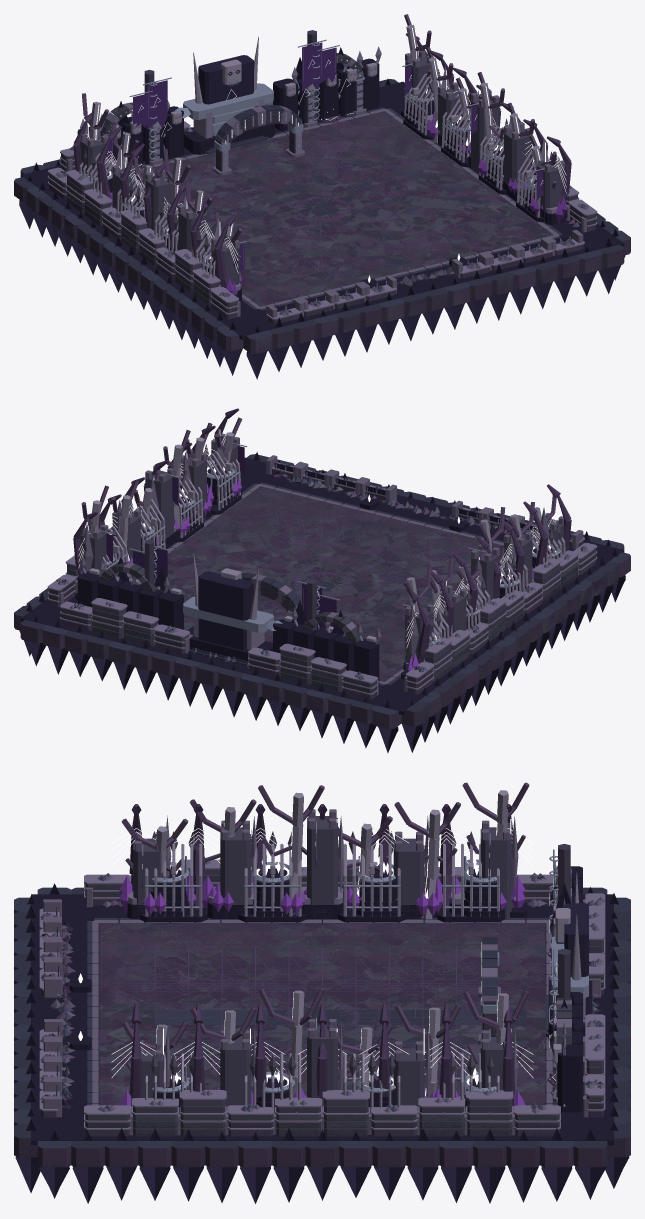
Rendered from raid-approach-rooms.glb.
3 renders of one model, top to bottom at view 1: azimuth 30°, elevation 25°; view 2: azimuth 150°, elevation 25°; view 3: azimuth 270°, elevation 25°, orthographic. The views are drawn at different scales.
Parts seen in each view (by area): view 1: raid-chamber-0-tiles, raid-chamber-1-tiles, raid-chamber-5-masonry, raid-chamber-0-facets, raid-chamber-0-masonry, raid-chamber-2-tiles, raid-chamber-3-masonry, raid-chamber-3-tiles, raid-chamber-1-facets, raid-chamber-6-masonry, raid-chamber-4-tiles, raid-chamber-1-masonry (+16 smaller); view 2: raid-chamber-0-tiles, raid-chamber-3-masonry, raid-chamber-5-masonry, raid-chamber-6-facets, raid-chamber-0-masonry, raid-chamber-1-tiles, raid-chamber-6-masonry, raid-chamber-0-facets, raid-chamber-1-facets, raid-chamber-1-masonry, raid-chamber-2-facets, raid-chamber-3-tiles (+13 smaller); view 3: raid-chamber-0-tiles, raid-chamber-5-masonry, raid-chamber-2-tiles, raid-chamber-0-facets, raid-chamber-6-masonry, raid-chamber-0-masonry, raid-chamber-3-tiles, raid-chamber-1-facets, raid-chamber-2-facets, raid-chamber-3-masonry, raid-chamber-6-facets, raid-chamber-4-masonry (+13 smaller).
Boxes of the visible parts, box(x1,y1,x2,y2) form: raid-chamber-0-tiles: box(20, 81, 624, 339); raid-chamber-1-tiles: box(152, 111, 552, 306); raid-chamber-5-masonry: box(14, 50, 623, 352); raid-chamber-0-facets: box(19, 14, 620, 372); raid-chamber-0-masonry: box(14, 89, 630, 353); raid-chamber-2-tiles: box(141, 111, 545, 304); raid-chamber-3-masonry: box(16, 58, 630, 353); raid-chamber-3-tiles: box(141, 113, 544, 304); raid-chamber-1-facets: box(19, 69, 619, 372); raid-chamber-6-masonry: box(14, 79, 630, 351); raid-chamber-4-tiles: box(141, 111, 550, 306); raid-chamber-1-masonry: box(14, 53, 630, 353); raid-chamber-0-tiles: box(20, 457, 624, 714); raid-chamber-3-masonry: box(14, 455, 630, 728); raid-chamber-5-masonry: box(15, 433, 630, 728); raid-chamber-6-facets: box(25, 427, 625, 748); raid-chamber-0-masonry: box(14, 457, 630, 729); raid-chamber-1-tiles: box(167, 486, 503, 680); raid-chamber-6-masonry: box(14, 454, 630, 728); raid-chamber-0-facets: box(24, 417, 625, 747); raid-chamber-1-facets: box(19, 444, 625, 751); raid-chamber-1-masonry: box(14, 459, 630, 728); raid-chamber-2-facets: box(24, 408, 625, 752); raid-chamber-3-tiles: box(167, 489, 500, 680); raid-chamber-0-tiles: box(31, 894, 613, 1145); raid-chamber-5-masonry: box(14, 809, 630, 1164); raid-chamber-2-tiles: box(99, 923, 545, 1105); raid-chamber-0-facets: box(17, 782, 627, 1202); raid-chamber-6-masonry: box(14, 884, 630, 1166); raid-chamber-0-masonry: box(14, 889, 630, 1167); raid-chamber-3-tiles: box(99, 923, 545, 1103); raid-chamber-1-facets: box(15, 831, 629, 1200); raid-chamber-2-facets: box(16, 804, 628, 1203); raid-chamber-3-masonry: box(14, 866, 630, 1165); raid-chamber-6-facets: box(16, 815, 629, 1203); raid-chamber-4-masonry: box(14, 869, 630, 1167).
Bounding box in the file's own units: 99.5 × 34.58 × 99.5.
